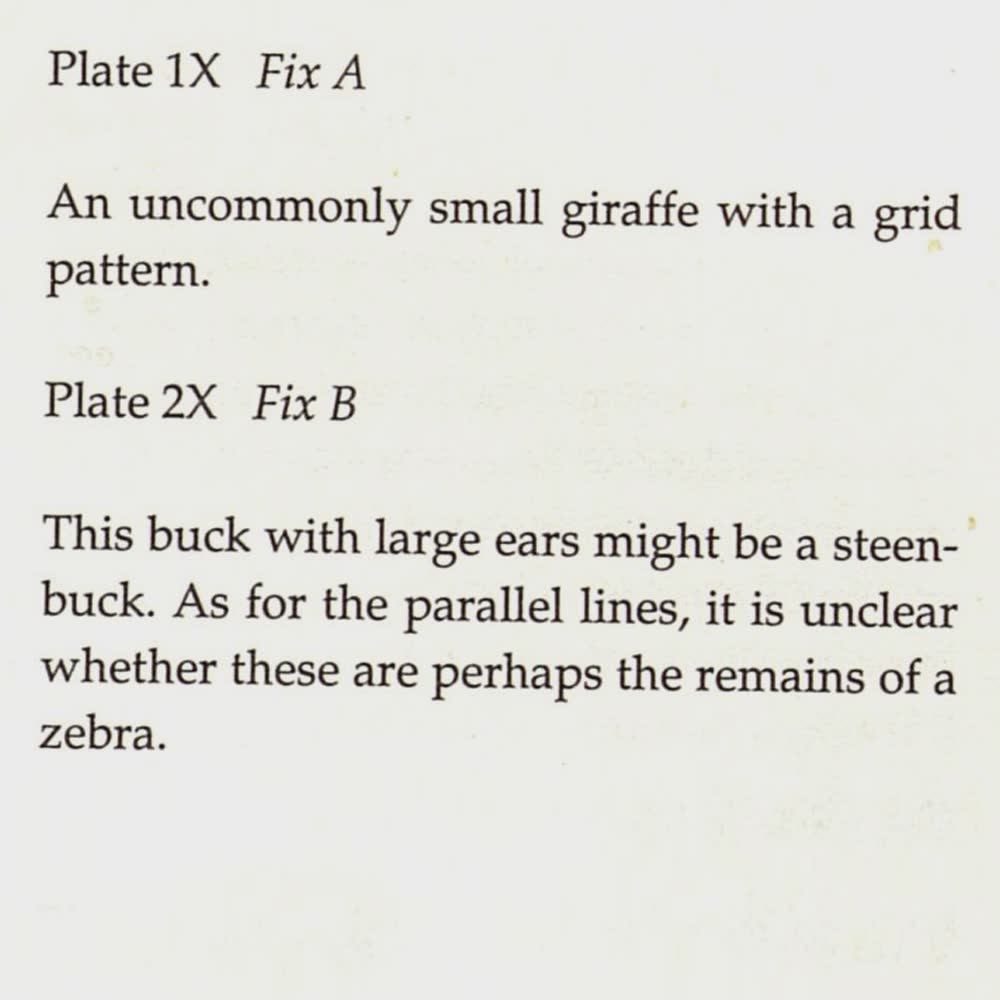text: (35, 372, 988, 774), (39, 36, 975, 308)
